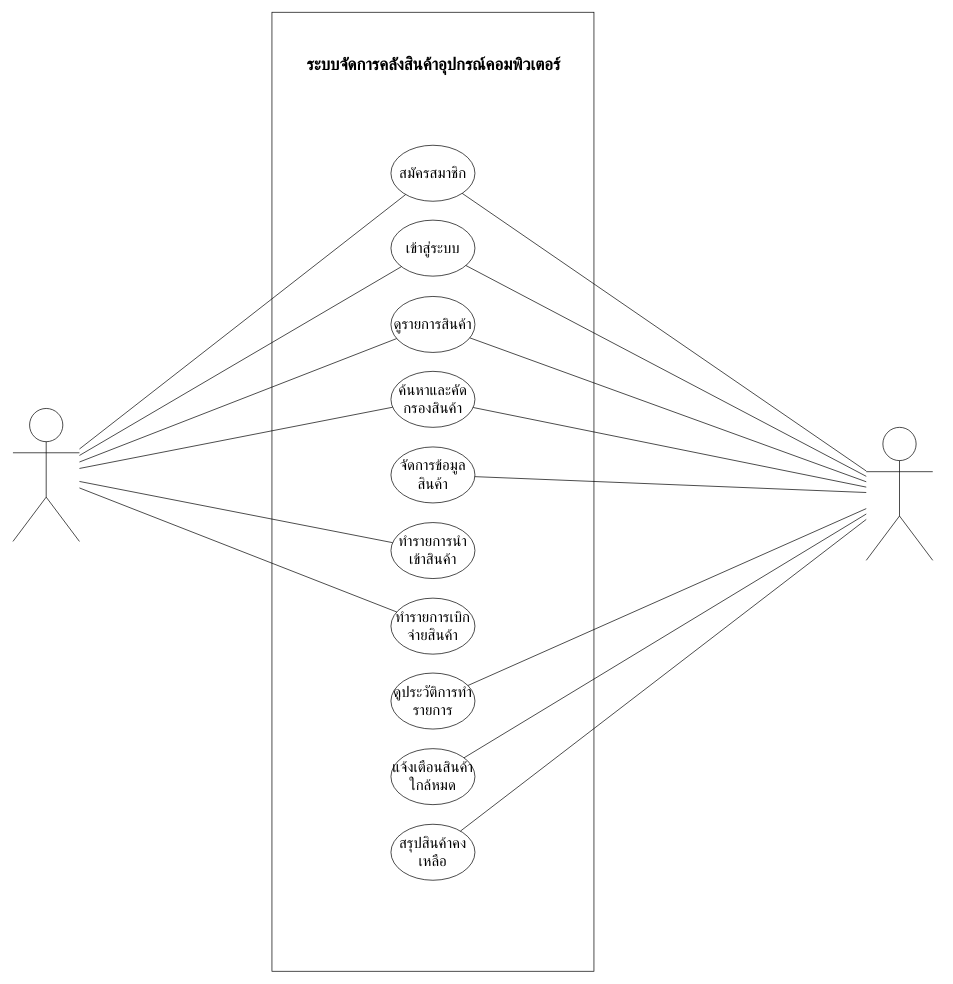
Some shapes in this 953 by 984 pixel diagram are drawn without their labels. Each missing label, with the box of its shape:
ผู้จัดการคลังสินค้า (Warehouse Manager): (866, 427, 933, 560)
พนักงานคลังสินค้า (Warehouse Staff): (12, 408, 79, 541)
